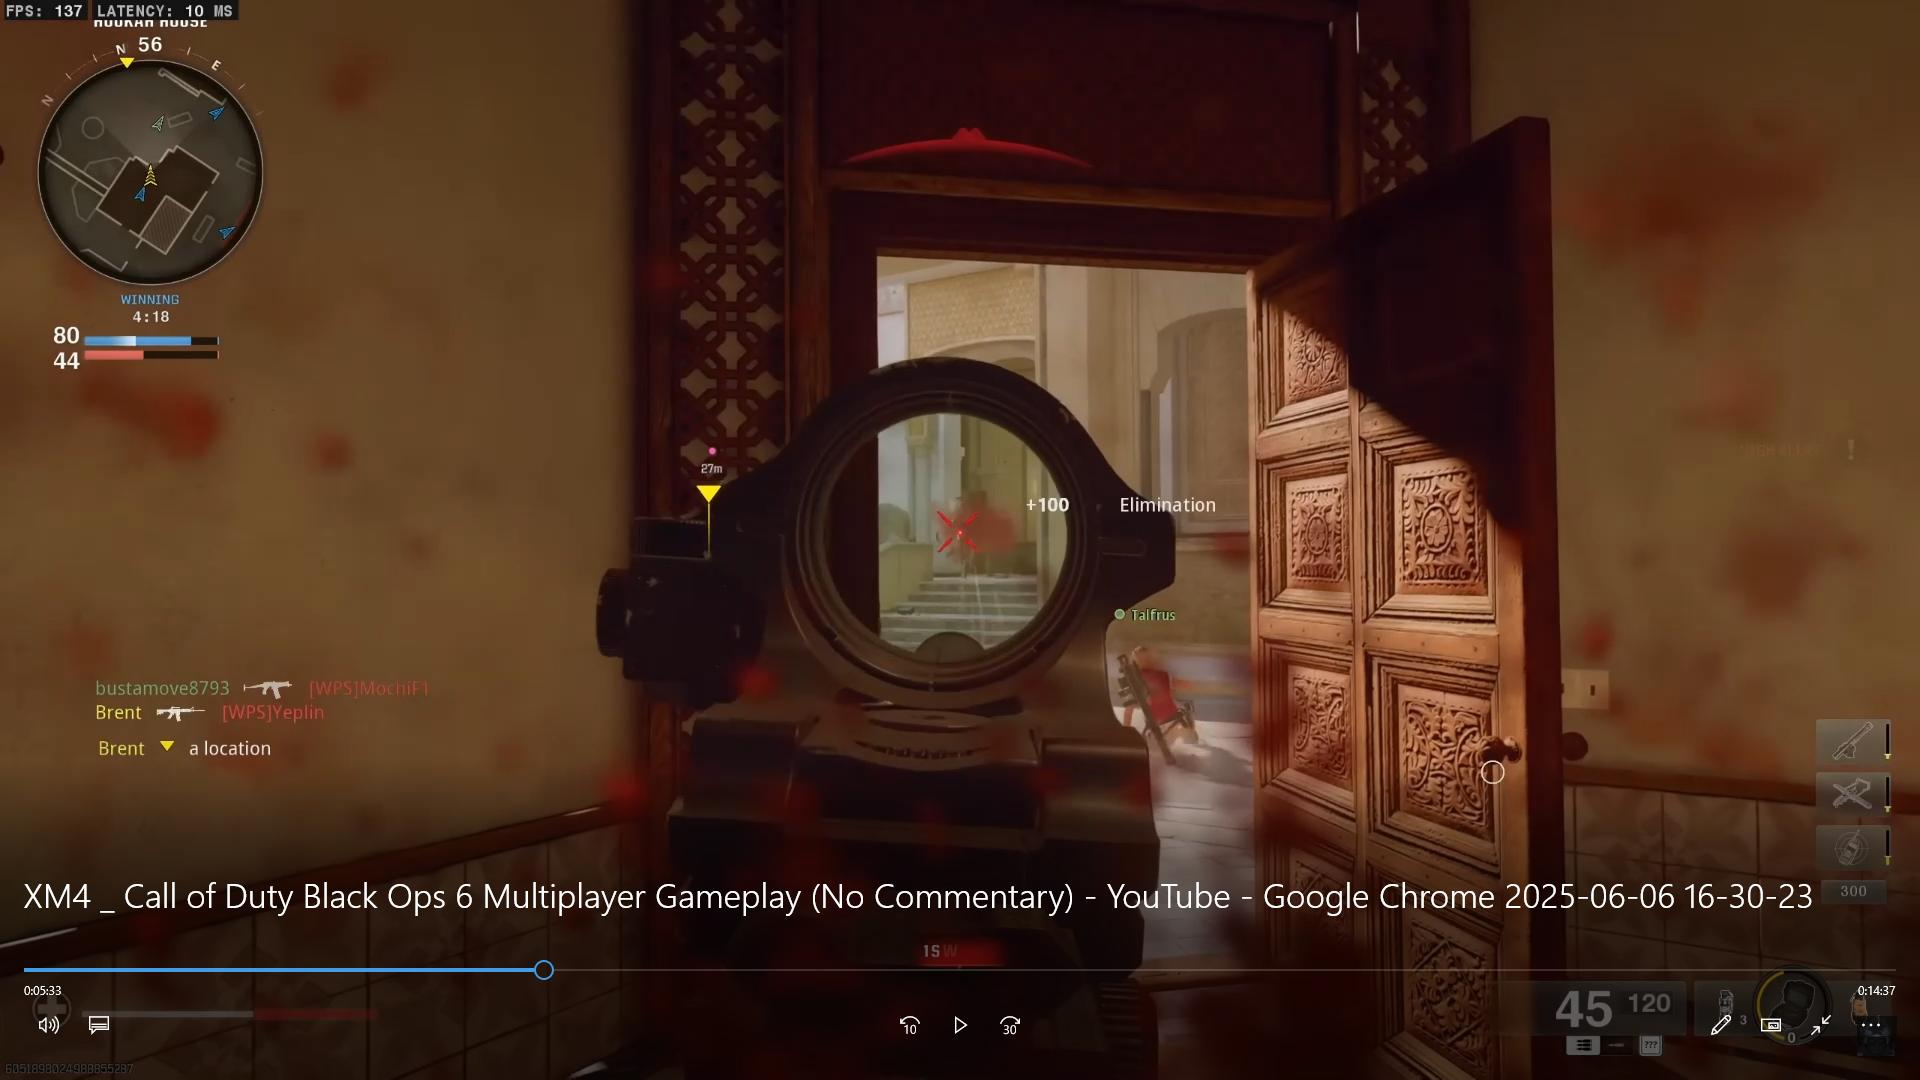Enemy: (1110, 640, 1212, 757)
